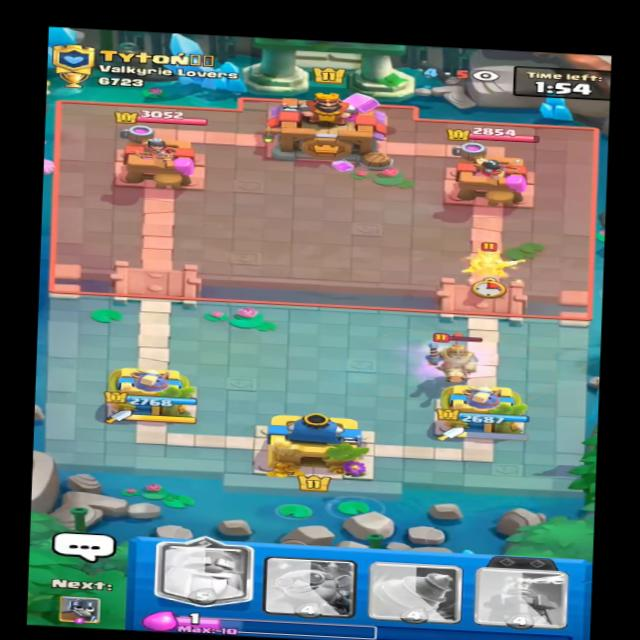night-witch: (451, 239, 535, 285)
prince: (424, 334, 485, 388)
